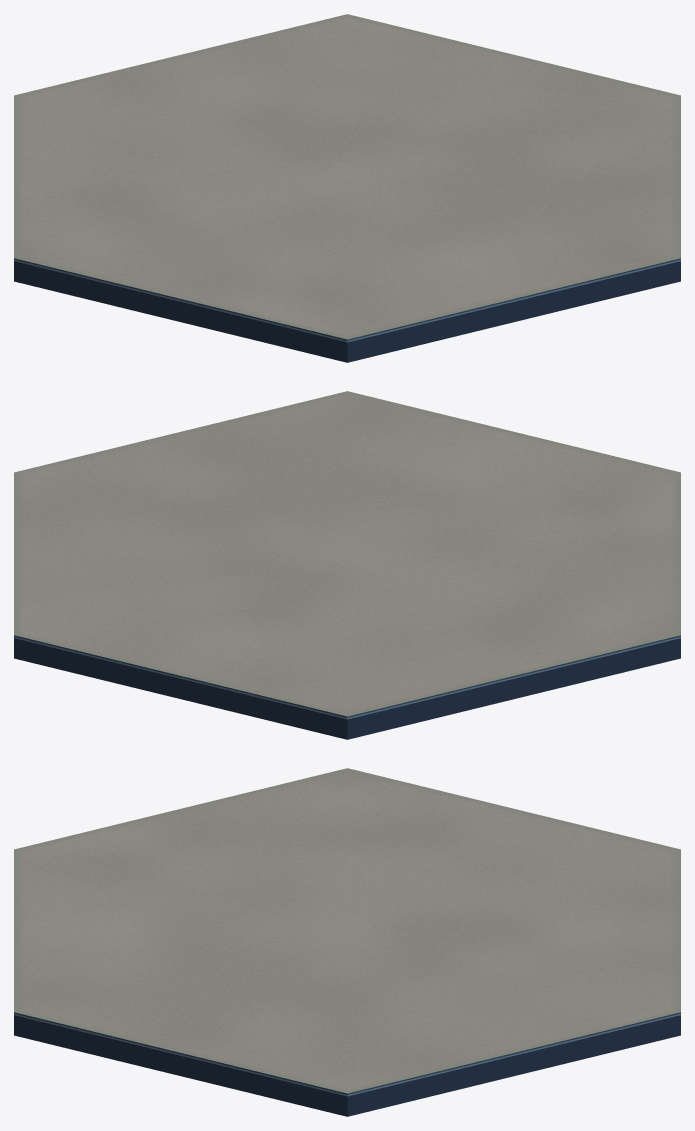
The model's file is campus_tile_plaza_v01.glb.
3 views of the same model, one above another, from view 1: azimuth 30°, elevation 25°; view 2: azimuth 150°, elevation 25°; view 3: azimuth 270°, elevation 25° (orthographic).
Parts seen in each view (by area): view 1: campus_tile_plaza; view 2: campus_tile_plaza; view 3: campus_tile_plaza.
Part boxes in pixels (x1=…): campus_tile_plaza: x1=14, y1=14, x2=680, y2=362; campus_tile_plaza: x1=14, y1=391, x2=680, y2=739; campus_tile_plaza: x1=14, y1=768, x2=680, y2=1116.
Bounding box in the file's own units: 36 × 1.2 × 31.18.
1 material, 1 textured.
